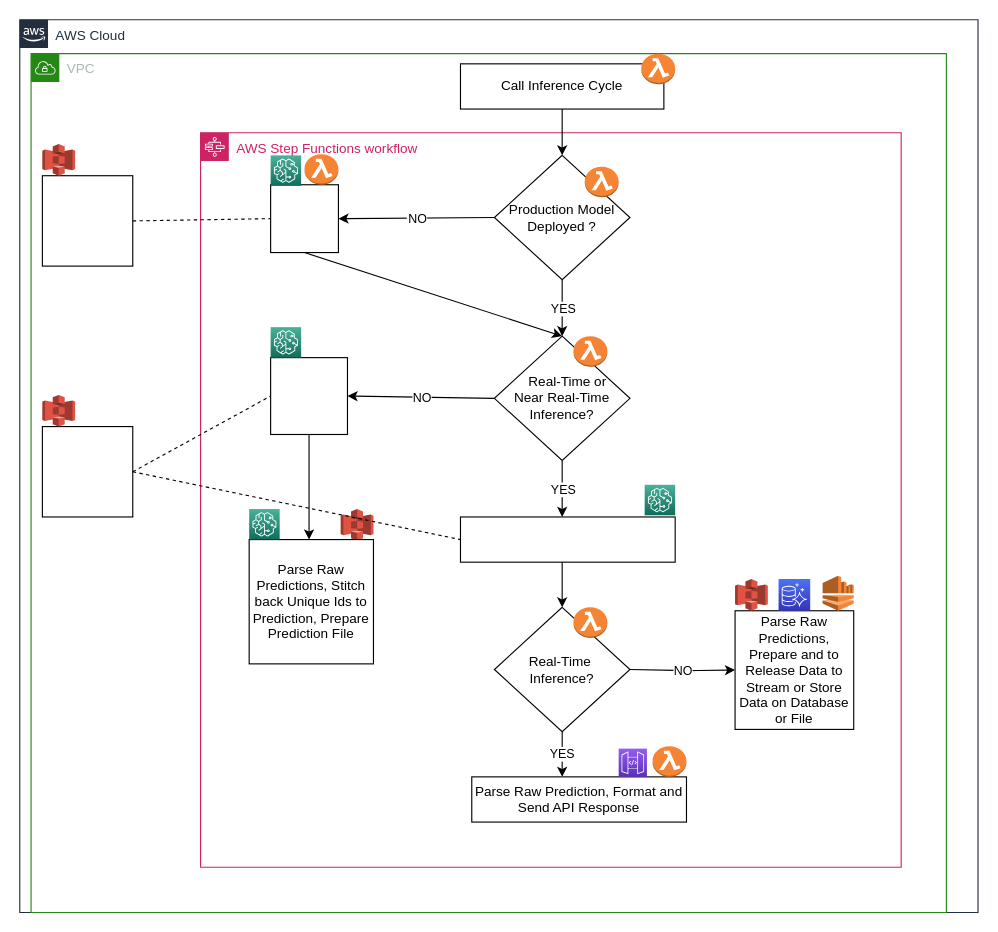
Some shapes in this 998 by 932 pixel diagram are drawn without their labels. Here are the shapes that lost their labels. From the top down, the centre of each, then its label:
the point at 87,220: Production Model
the point at 304,218: Deploy Production Model
the point at 308,395: SageMaker Batch Transform Job
the point at 87,471: Processed Feature Files
the point at 567,539: SageMaker Inference Job
